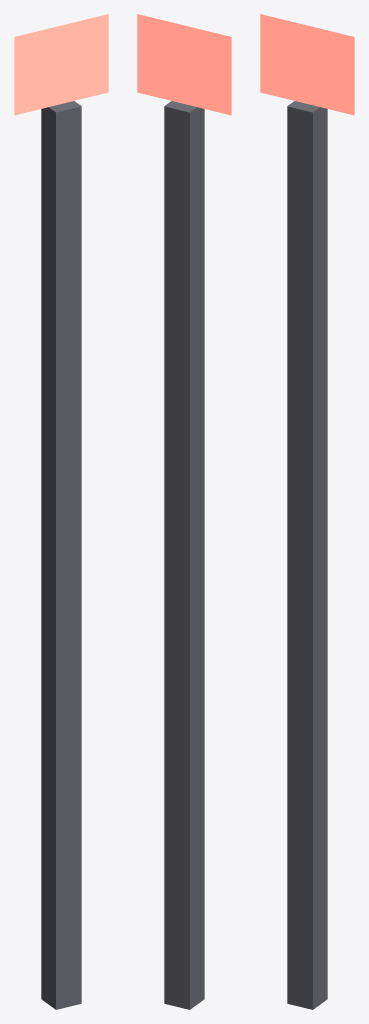
Rendered from roof_antenna.glb.
3 renders of one model, left to right at view 1: azimuth 30°, elevation 25°; view 2: azimuth 150°, elevation 25°; view 3: azimuth 330°, elevation 25°, orthographic.
Visible parts, largest first — view 1: roof_antenna; view 2: roof_antenna; view 3: roof_antenna.
Part boxes in pixels (x1=…): roof_antenna: x1=14, y1=14, x2=108, y2=1009; roof_antenna: x1=137, y1=14, x2=231, y2=1009; roof_antenna: x1=260, y1=14, x2=354, y2=1009.
Size of the model in its own units: 0.44 by 4.35 by 0.12.
